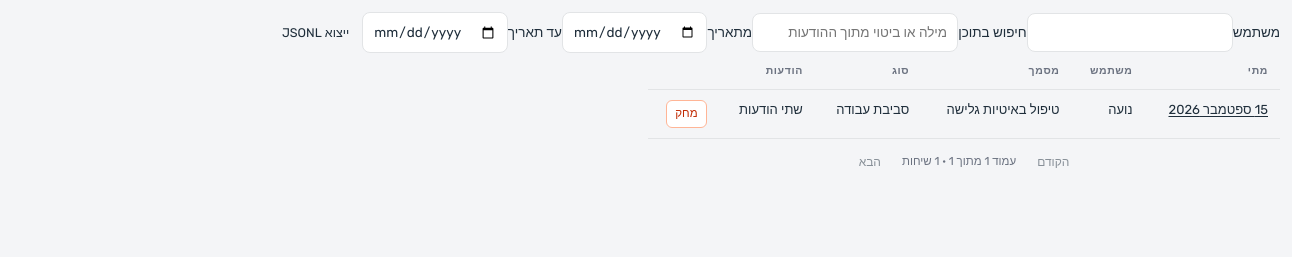
it: ConversationsTab › lists a conversation and opens its transcript
Expected: the text "נועה" shows "טיפול באיטיות גלישה", [947,102,1060,117]
Expected: the text "נועה" shows "סביבת עבודה", [836,102,909,117]
What coordinates should you click on to do the following:
click the button "15 ספטמבר 2026"
I would click on:
 (1218, 110)
Its box is [1168,100,1268,120].
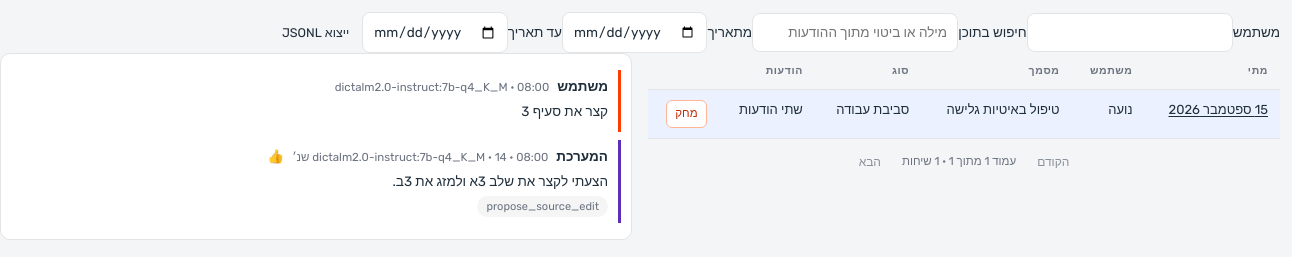
Expected: the element labelled "משתמש" shows "קצר את סעיף 3", [521,103,608,119]
Expected: the text named "משוב חיובי" is shown, [267,146,284,167]
Expected: the element labelled "המערכת" shows "14 שנ׳", [292,150,507,164]
